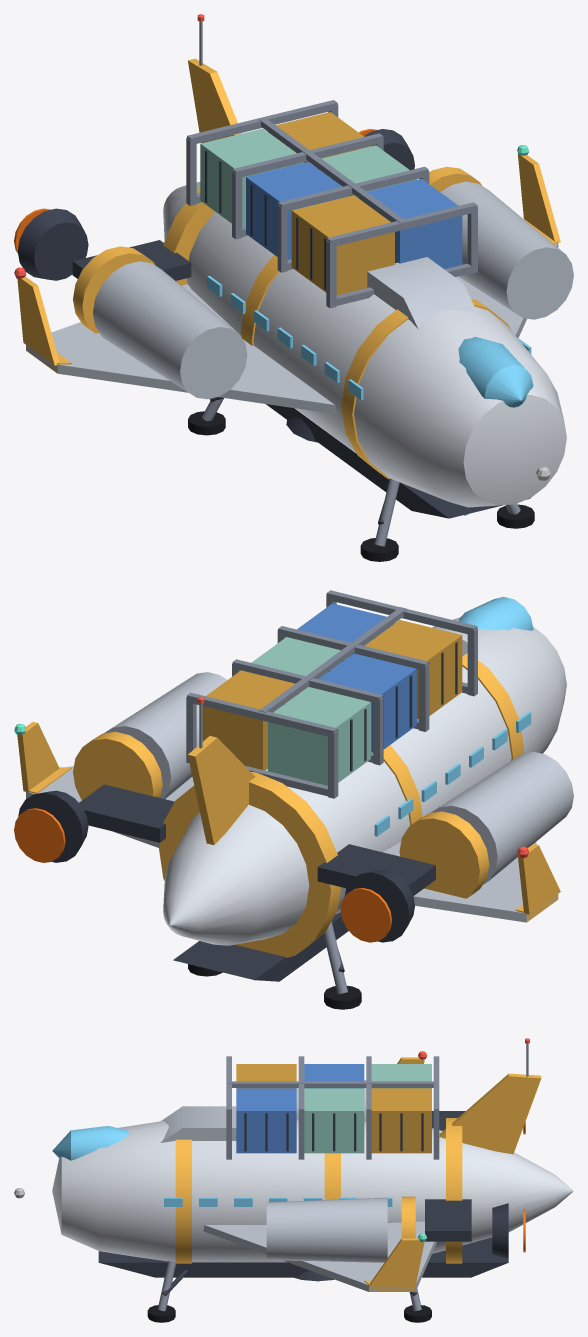
Rendered from haendlerschiff.obj.
3 views of the same model, one above another, from view 1: azimuth 30°, elevation 25°; view 2: azimuth 150°, elevation 25°; view 3: azimuth 270°, elevation 25° (orthographic). The views are drawn at different scales.
Visible parts, largest first — view 1: haendlerschiff_Koerper, haendlerschiff_Fahrwerk; view 2: haendlerschiff_Koerper, haendlerschiff_Fahrwerk; view 3: haendlerschiff_Koerper, haendlerschiff_Fahrwerk.
Part boxes in pixels (x1=…): haendlerschiff_Koerper: x1=14, y1=14, x2=573, y2=518; haendlerschiff_Fahrwerk: x1=188, y1=397, x2=534, y2=561; haendlerschiff_Koerper: x1=14, y1=590, x2=573, y2=981; haendlerschiff_Fahrwerk: x1=188, y1=921, x2=361, y2=1009; haendlerschiff_Koerper: x1=14, y1=1038, x2=573, y2=1291; haendlerschiff_Fahrwerk: x1=147, y1=1261, x2=431, y2=1322.
Bounding box in the file's own units: 9.44 × 6.02 × 12.02.
